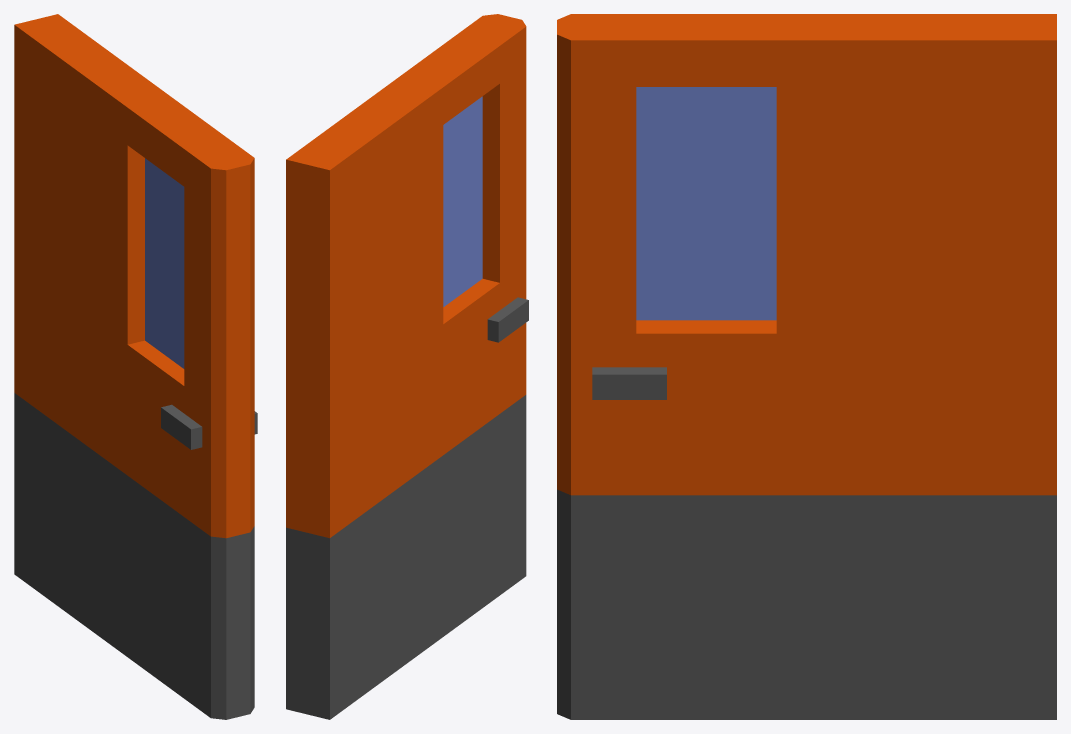
Rendered from mkapisag.fbx.
3 renders of one model, left to right at view 1: azimuth 30°, elevation 25°; view 2: azimuth 150°, elevation 25°; view 3: azimuth 270°, elevation 25°, orthographic. The views are drawn at different scales.
Parts seen in each view (by area): view 1: mkapisag; view 2: mkapisag; view 3: mkapisag.
Boxes of the visible parts, bbox=[...] form: mkapisag: bbox=[14, 14, 257, 719]; mkapisag: bbox=[286, 14, 528, 719]; mkapisag: bbox=[557, 14, 1056, 719].
Size of the model in its own units: 37.99 by 300 by 200.
